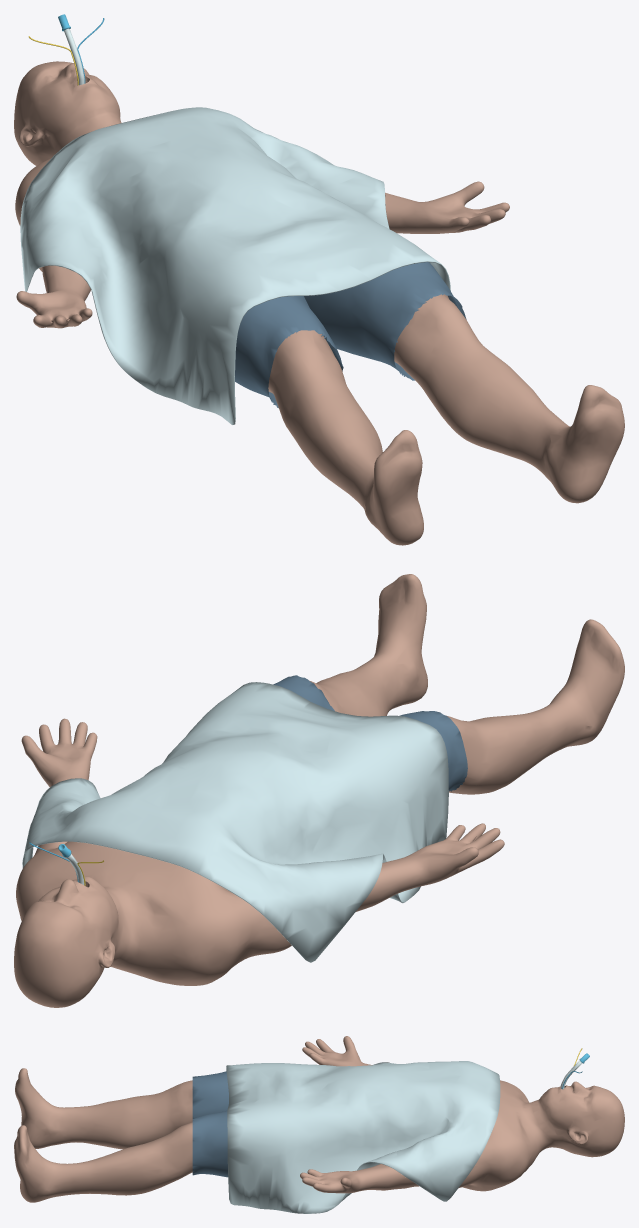
Rendered from patient_001_lod1.glb.
3 renders of one model, top to bottom at view 1: azimuth 30°, elevation 25°; view 2: azimuth 150°, elevation 25°; view 3: azimuth 270°, elevation 25°, orthographic. The views are drawn at different scales.
Parts seen in each view (by area): view 1: Patient_LOD1 blanket, Patient_LOD1 skin, Patient_LOD1 underwear; view 2: Patient_LOD1 blanket, Patient_LOD1 skin, Patient_LOD1 underwear; view 3: Patient_LOD1 blanket, Patient_LOD1 skin, Patient_LOD1 underwear.
Part boxes in pixels (x1=…): Patient_LOD1 blanket: x1=20, y1=107, x2=450, y2=424; Patient_LOD1 skin: x1=14, y1=61, x2=624, y2=545; Patient_LOD1 underwear: x1=235, y1=262, x2=466, y2=407; Patient_LOD1 blanket: x1=22, y1=682, x2=448, y2=962; Patient_LOD1 skin: x1=14, y1=574, x2=624, y2=1007; Patient_LOD1 underwear: x1=273, y1=675, x2=467, y2=791; Patient_LOD1 blanket: x1=226, y1=1061, x2=500, y2=1213; Patient_LOD1 skin: x1=14, y1=1036, x2=624, y2=1202; Patient_LOD1 underwear: x1=192, y1=1071, x2=228, y2=1177.
Size of the model in its own units: 1.04 by 0.4047 by 1.82.
